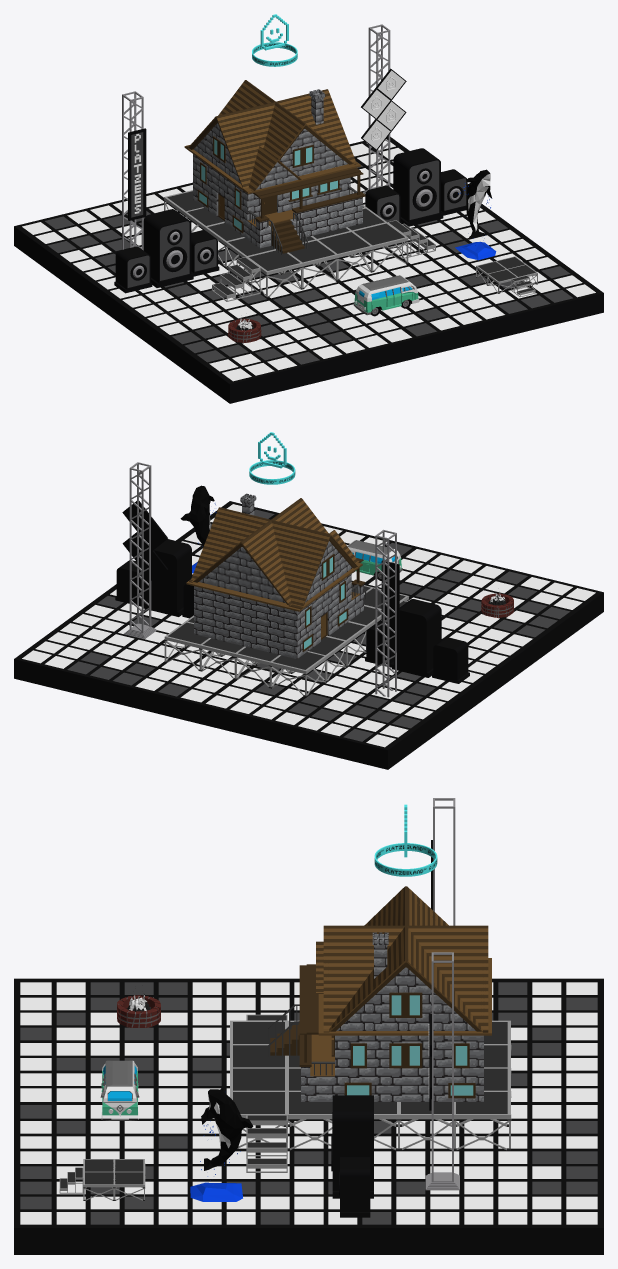
The picture shows the model from 3 angles, top to bottom: view 1: azimuth 30°, elevation 25°; view 2: azimuth 150°, elevation 25°; view 3: azimuth 270°, elevation 25°; orthographic projection. The views are drawn at different scales.
Visible parts, largest first — view 1: Cube.008, Cube.586, VEHICLES_VAN, ANIMAL_ORCA, TYPE_PREMIUM, OBJRANDOM_CAMPFIRE; view 2: Cube.008, Cube.586, ANIMAL_ORCA, VEHICLES_VAN, TYPE_PREMIUM, OBJRANDOM_CAMPFIRE; view 3: Cube.008, Cube.586, ANIMAL_ORCA, VEHICLES_VAN, OBJRANDOM_CAMPFIRE, TYPE_PREMIUM.
Part boxes in pixels (x1,y1,x2,y2): Cube.008: [14, 24, 603, 403]; Cube.586: [184, 80, 365, 254]; VEHICLES_VAN: [353, 275, 419, 316]; ANIMAL_ORCA: [455, 169, 496, 260]; TYPE_PREMIUM: [252, 14, 297, 66]; OBJRANDOM_CAMPFIRE: [228, 317, 261, 342]; Cube.008: [14, 462, 603, 769]; Cube.586: [186, 493, 366, 658]; ANIMAL_ORCA: [180, 485, 216, 573]; VEHICLES_VAN: [347, 540, 402, 580]; TYPE_PREMIUM: [249, 432, 295, 484]; OBJRANDOM_CAMPFIRE: [481, 593, 514, 617]; Cube.008: [14, 798, 603, 1254]; Cube.586: [268, 886, 491, 1101]; ANIMAL_ORCA: [190, 1088, 253, 1201]; VEHICLES_VAN: [100, 1060, 139, 1120]; OBJRANDOM_CAMPFIRE: [117, 993, 160, 1027]; TYPE_PREMIUM: [374, 804, 437, 876].
Bounding box in the file's own units: 4000 × 2664 × 4000.
38 materials, 3 textured.
